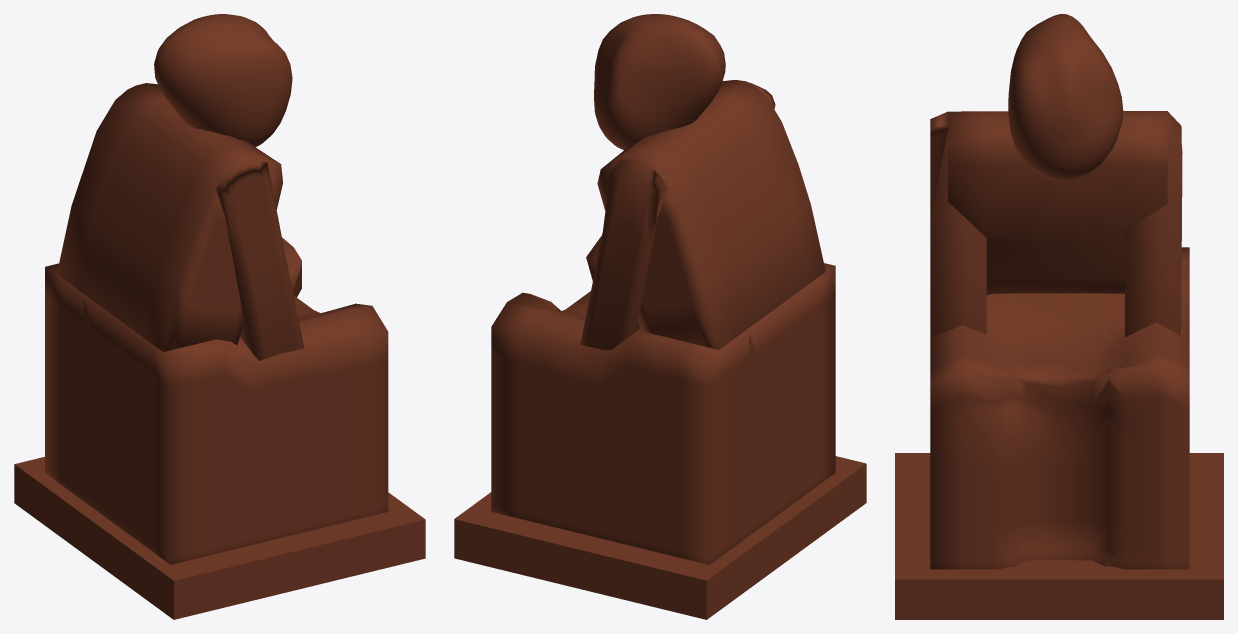
Rendered from maeefilho.fbx.
3 renders of one model, left to right at view 1: azimuth 30°, elevation 25°; view 2: azimuth 150°, elevation 25°; view 3: azimuth 270°, elevation 25°, orthographic. The views are drawn at different scales.
Visible parts, largest first — view 1: Cube, Cube.001, Cube.002, Sphere, Cube.004; view 2: Cube, Cube.001, Cube.002, Sphere, Cube.003; view 3: Cube, Cube.001, Cube.002, Sphere, Cube.004, Cube.003.
Part boxes in pixels (x1,y1,x2,y2): Cube: (45, 237, 388, 564); Cube.001: (57, 83, 282, 351); Cube.002: (14, 457, 425, 619); Sphere: (154, 14, 292, 147); Cube.004: (216, 161, 304, 360); Cube: (491, 235, 835, 564); Cube.001: (597, 80, 825, 349); Cube.002: (454, 456, 866, 619); Sphere: (594, 14, 725, 149); Cube.003: (580, 159, 667, 350); Cube: (930, 247, 1189, 569); Cube.001: (948, 111, 1167, 294); Cube.002: (895, 453, 1223, 619); Sphere: (1008, 14, 1123, 180); Cube.004: (930, 111, 986, 337); Cube.003: (1125, 111, 1182, 337).
Size of the model in its own units: 231 by 450 by 254.
